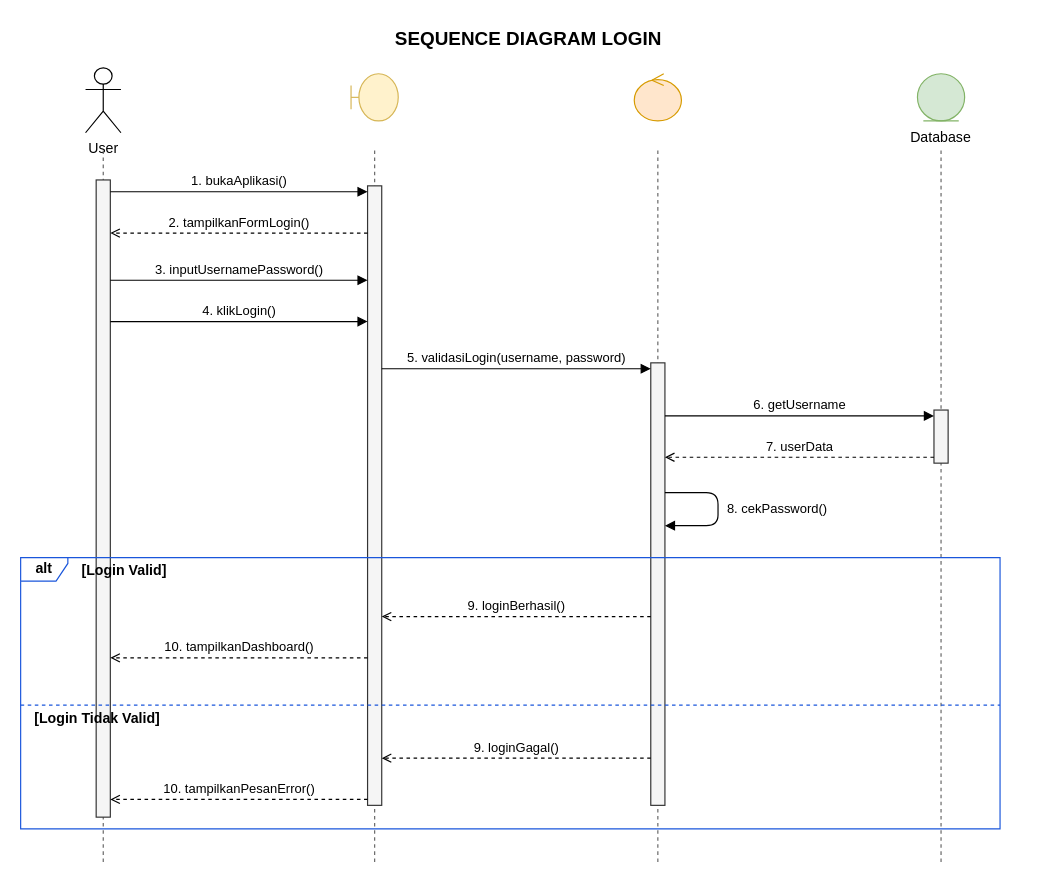
This 1044x886 diagram has some shape labels left out. Each missing label, with the centre of its shape:
AuthController: (x=657, y=97)
LoginUI: (x=374, y=97)
